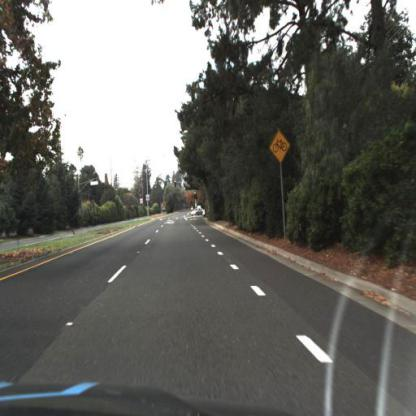car: (192, 210, 205, 218)
trafficLight-Red: (195, 192, 198, 200), (175, 180, 178, 188)
